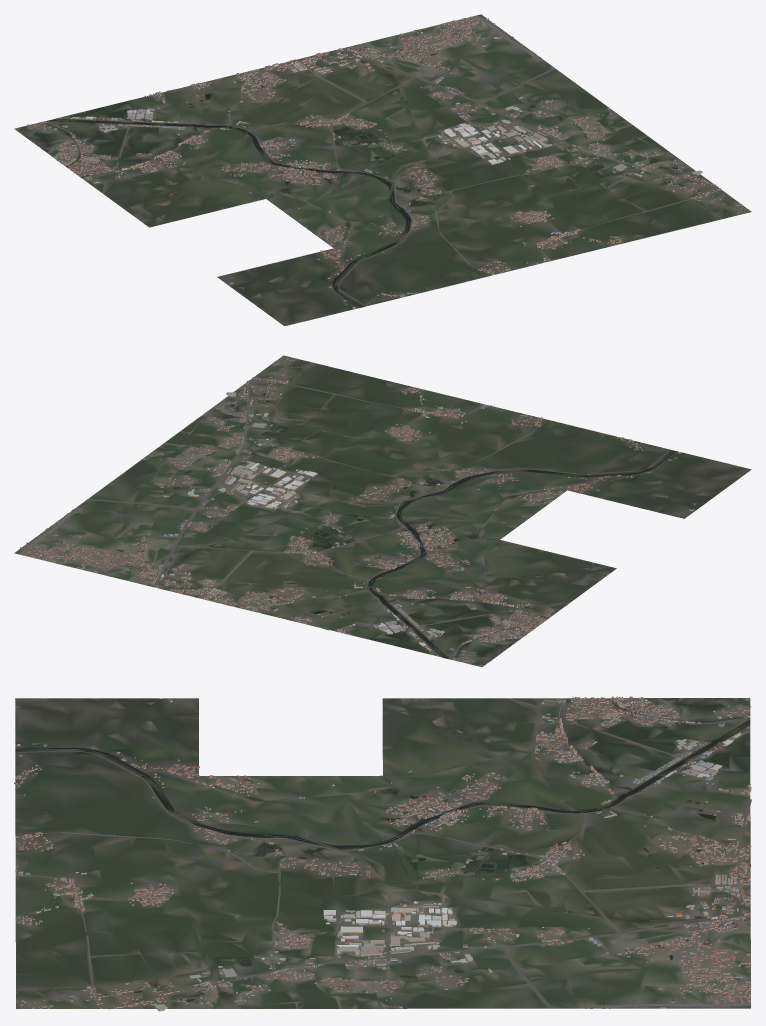
The picture shows the model from 3 angles, top to bottom: view 1: azimuth 30°, elevation 25°; view 2: azimuth 150°, elevation 25°; view 3: azimuth 270°, elevation 25°; orthographic projection. The views are drawn at different scales.
Visible parts, largest first — view 1: ground, buildings, roads, water; view 2: ground, buildings, roads, water; view 3: ground, buildings, roads, water.
Part boxes in pixels (left/top/right/bottom): ground: left=14, top=14, right=751, bottom=326; buildings: left=17, top=16, right=748, bottom=308; roads: left=56, top=15, right=717, bottom=306; water: left=48, top=47, right=683, bottom=306; ground: left=14, top=355, right=751, bottom=666; buildings: left=20, top=356, right=693, bottom=665; roads: left=17, top=379, right=668, bottom=656; water: left=116, top=393, right=706, bottom=658; ground: left=15, top=698, right=750, bottom=1008; buildings: left=14, top=696, right=751, bottom=1011; roads: left=15, top=703, right=751, bottom=1009; water: left=20, top=698, right=750, bottom=1001.
Bounding box in the file's own units: 5671 × 32.89 × 5630.
